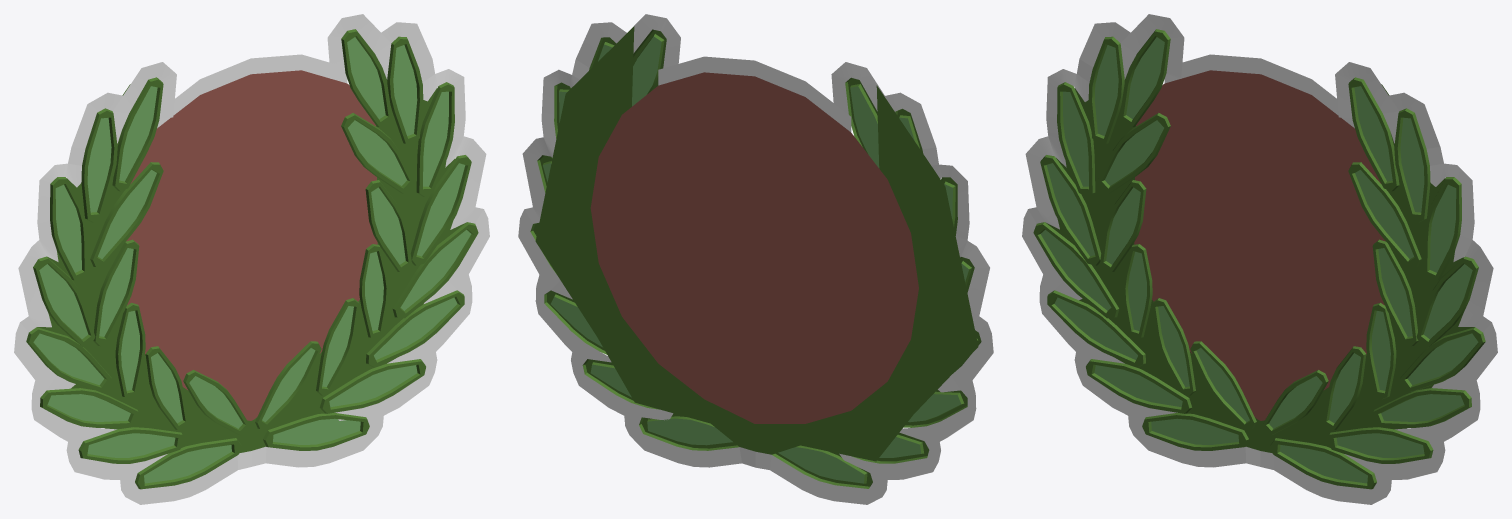
Rendered from Rank_icon.fbx.
3 renders of one model, left to right at view 1: azimuth 30°, elevation 25°; view 2: azimuth 150°, elevation 25°; view 3: azimuth 330°, elevation 25°, orthographic.
Visible parts, largest first — view 1: Rank_icon; view 2: Rank_icon; view 3: Rank_icon.
Part boxes in pixels (x1,y1,x2,y2): Rank_icon: (14, 14, 489, 504); Rank_icon: (518, 14, 993, 504); Rank_icon: (1022, 14, 1497, 504).
Size of the model in its own units: 153 by 136 by 1.63.
